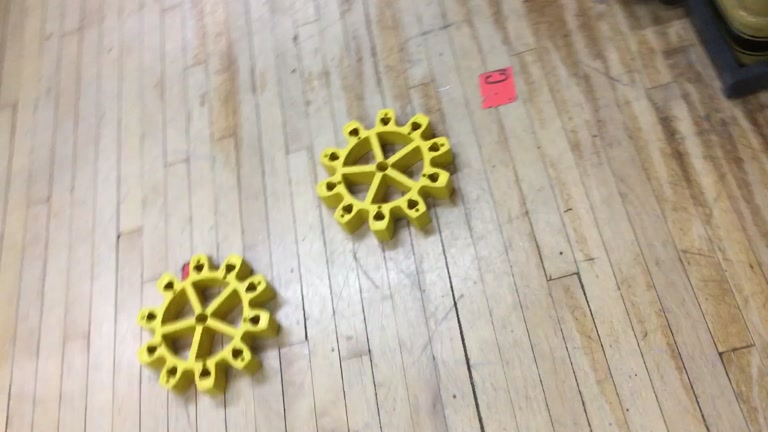gear: (136, 251, 278, 395), (315, 106, 452, 243)
